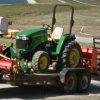Tractor: (7, 13, 92, 76)
